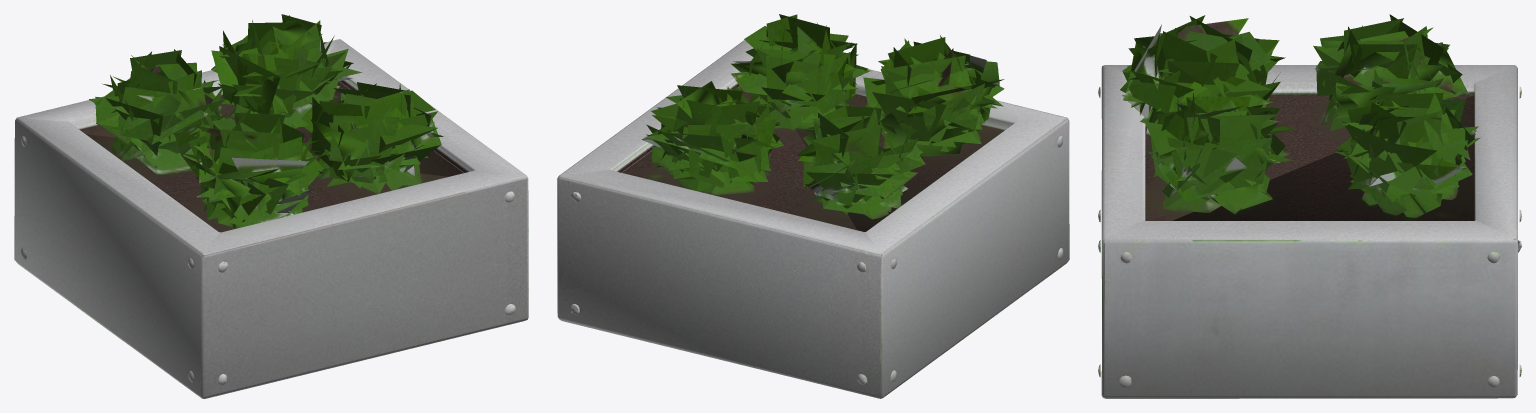
File: planter.glb
3 renders of one model, left to right at view 1: azimuth 30°, elevation 25°; view 2: azimuth 150°, elevation 25°; view 3: azimuth 270°, elevation 25°, orthographic. The views are drawn at different scales.
Visible parts, largest first — view 1: Mesh_0; view 2: Mesh_0; view 3: Mesh_0.
Part boxes in pixels (x1,y1,x2,y2): Mesh_0: (14, 14, 528, 398); Mesh_0: (557, 14, 1069, 398); Mesh_0: (1098, 14, 1521, 398).
Bounding box in the file's own units: 1.19 × 0.7743 × 1.2.
Materials: 1 (1 with a texture image).
